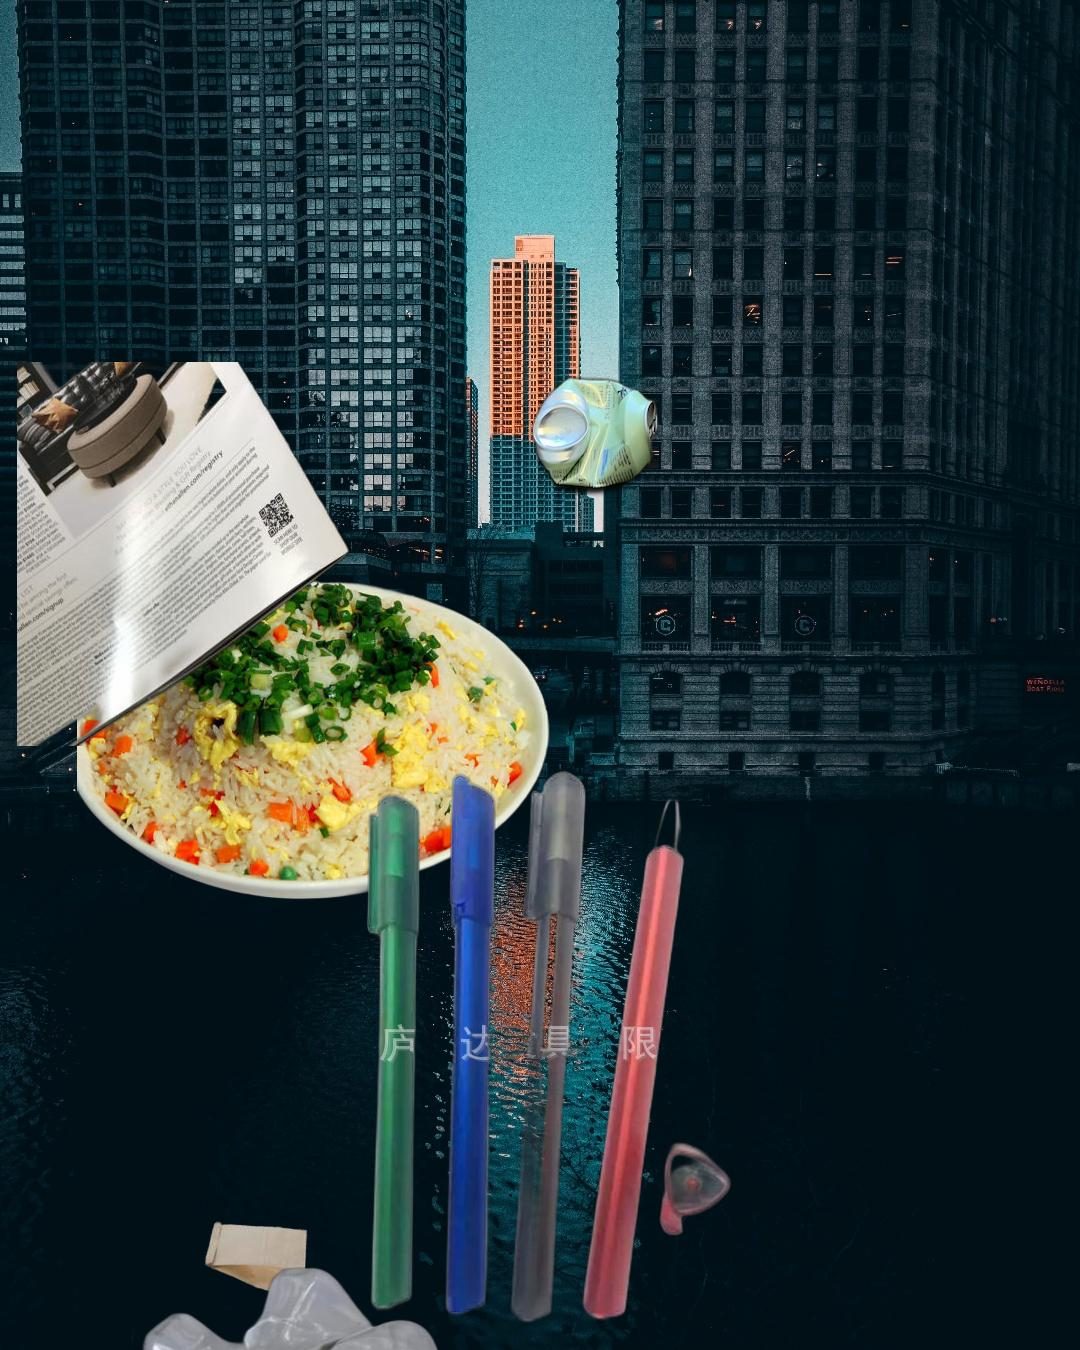biological: (77, 576, 612, 903)
metal-cans: (528, 371, 663, 499)
paper: (17, 361, 355, 746)
paper-bag: (202, 1218, 310, 1314)
penholder: (357, 765, 779, 1350)
plastic-bottles: (104, 1264, 466, 1350)
